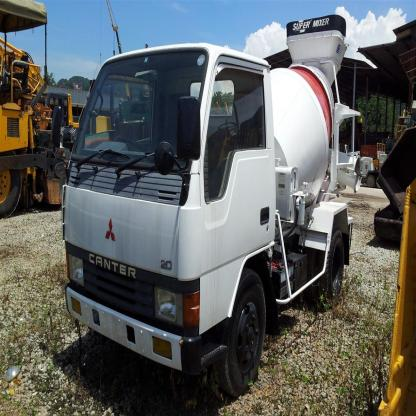truck: (54, 15, 353, 395)
